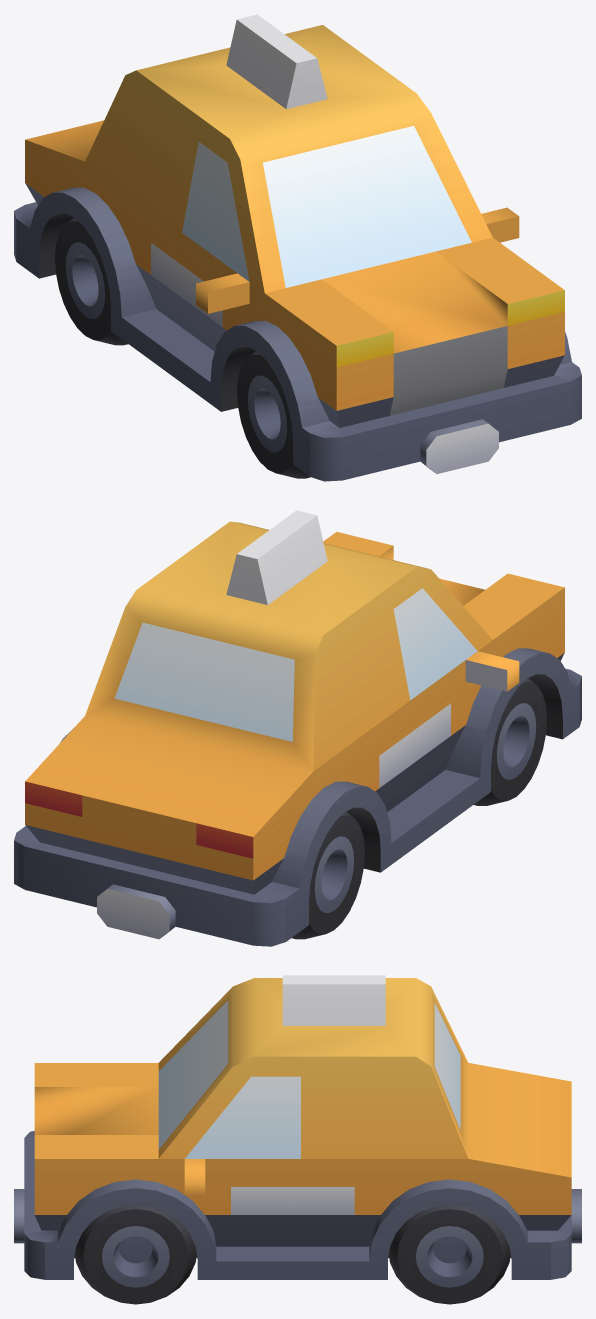
Rendered from taxi.glb.
3 renders of one model, top to bottom at view 1: azimuth 30°, elevation 25°; view 2: azimuth 150°, elevation 25°; view 3: azimuth 270°, elevation 25°, orthographic. The views are drawn at different scales.
Parts seen in each view (by area): view 1: taxi; view 2: taxi; view 3: taxi.
Boxes of the visible parts, x1,y1,x2,y2 form: taxi: (14, 14, 581, 481); taxi: (14, 510, 581, 946); taxi: (14, 975, 581, 1304).
Size of the model in its own units: 0.6323 by 0.6323 by 1.16.
Materials: 1 (1 with a texture image).
